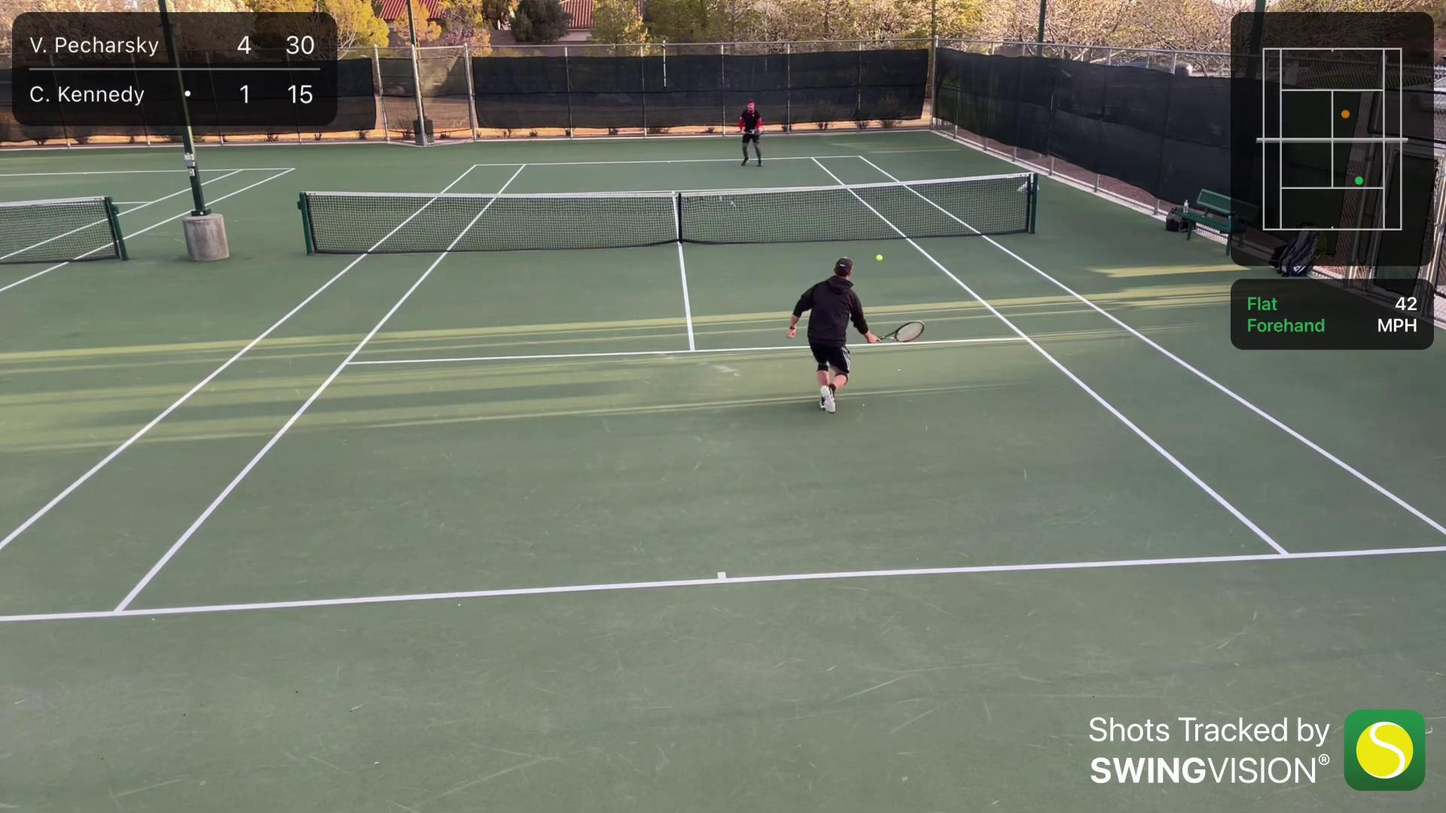ball: (874, 254, 882, 262)
